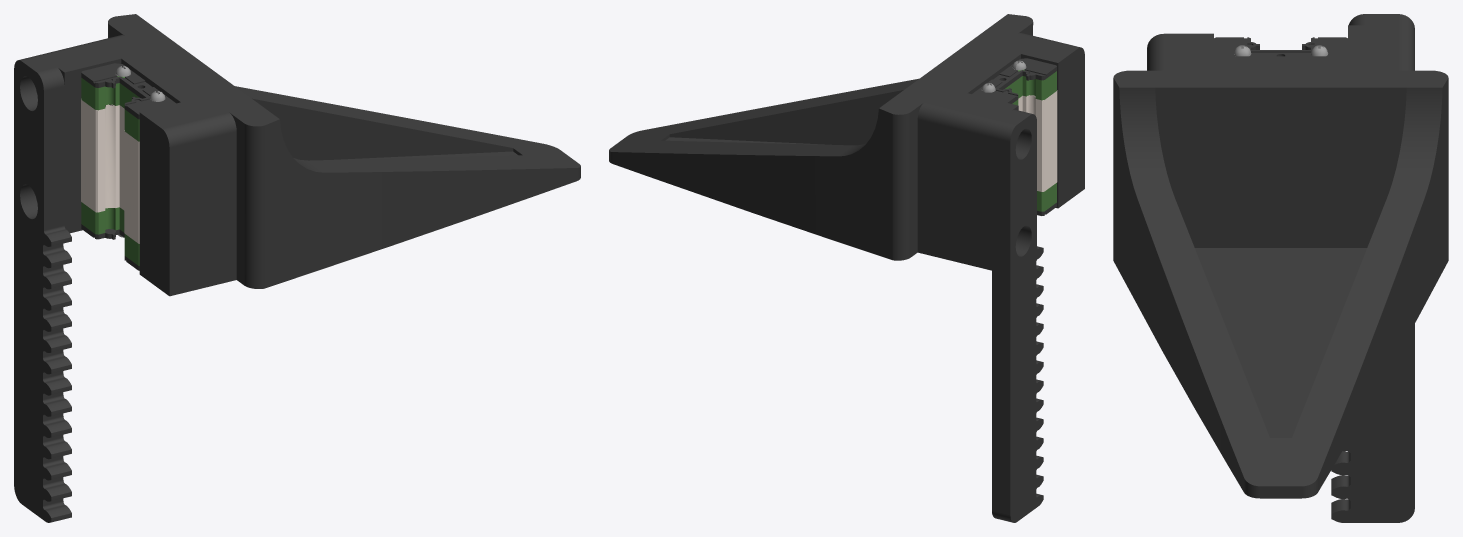
The model's file is finger_left.glb.
3 views of the same model, side by side, from view 1: azimuth 30°, elevation 25°; view 2: azimuth 150°, elevation 25°; view 3: azimuth 270°, elevation 25° (orthographic). The views are drawn at different scales.
Parts seen in each view (by area): view 1: Finger v0.2 v2.001, FingerAdapter v0.2 v4.001, Zahnstange v0.2 v003.001, Component9.001, Component4.001, Component004.001, Component5.001; view 2: Finger v0.2 v2.001, FingerAdapter v0.2 v4.001, Zahnstange v0.2 v003.001, Component9.001, Component4.001, Component004.001; view 3: Finger v0.2 v2.001, Zahnstange v0.2 v003.001, FingerAdapter v0.2 v4.001, Component4.001.
Part boxes in pixels (x1,y1,x2,y2): Finger v0.2 v2.001: (108,14,580,288); FingerAdapter v0.2 v4.001: (39,35,241,296); Zahnstange v0.2 v003.001: (14,55,71,522); Component9.001: (81,99,139,243); Component4.001: (81,63,175,119); Component004.001: (81,76,139,141); Component5.001: (81,202,139,265); Finger v0.2 v2.001: (609,14,1033,260); FingerAdapter v0.2 v4.001: (913,33,1084,270); Zahnstange v0.2 v003.001: (992,109,1043,522); Component9.001: (1018,90,1057,191); Component4.001: (972,58,1056,103); Component004.001: (1004,69,1056,105); Finger v0.2 v2.001: (1113,70,1448,498); Zahnstange v0.2 v003.001: (1331,14,1414,522); FingerAdapter v0.2 v4.001: (1147,25,1414,81); Component4.001: (1214,37,1347,56).
Bounding box in the file's own units: 0.096 × 0.0827 × 0.05.
